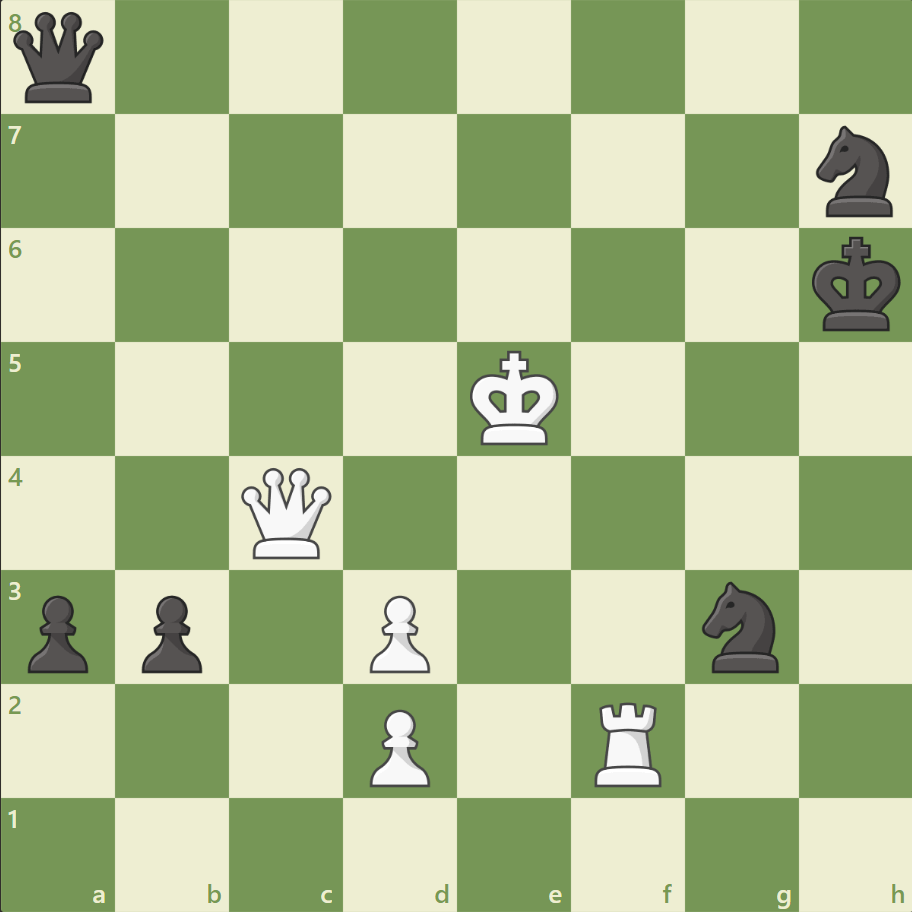K: (465, 344, 565, 452)
P: (361, 586, 435, 677), (361, 700, 435, 791)
Q: (237, 463, 336, 562)
R: (587, 693, 670, 790)
k: (806, 231, 906, 339)
n: (806, 121, 903, 223), (692, 575, 789, 677)
p: (20, 586, 95, 677), (133, 586, 208, 677)
q: (10, 9, 109, 108)
